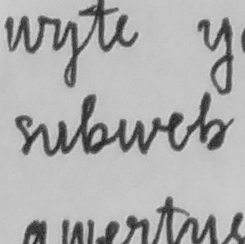b: (78, 90, 110, 157), (195, 89, 227, 152)
e: (165, 108, 188, 154)
s: (12, 112, 36, 157)
u: (38, 118, 70, 159)
w: (116, 114, 164, 156)
